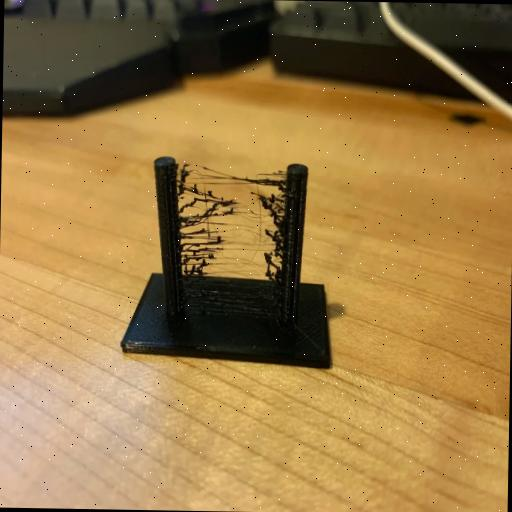stringing: (183, 169, 289, 283)
